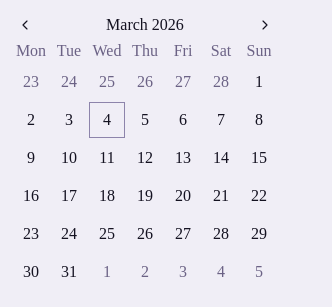
Test: CalendarComponent › selection › pages to the month of an adjacent day that was picked
Click the 2nd button "1" at [107, 272], box [89, 254, 125, 290]
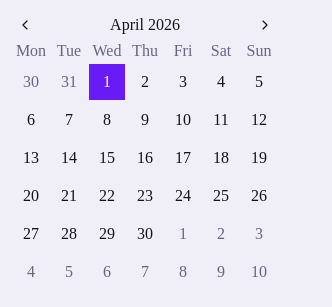
Check: the text with class "ds-calendar__month" reads "April 2026", box [110, 16, 180, 33]
